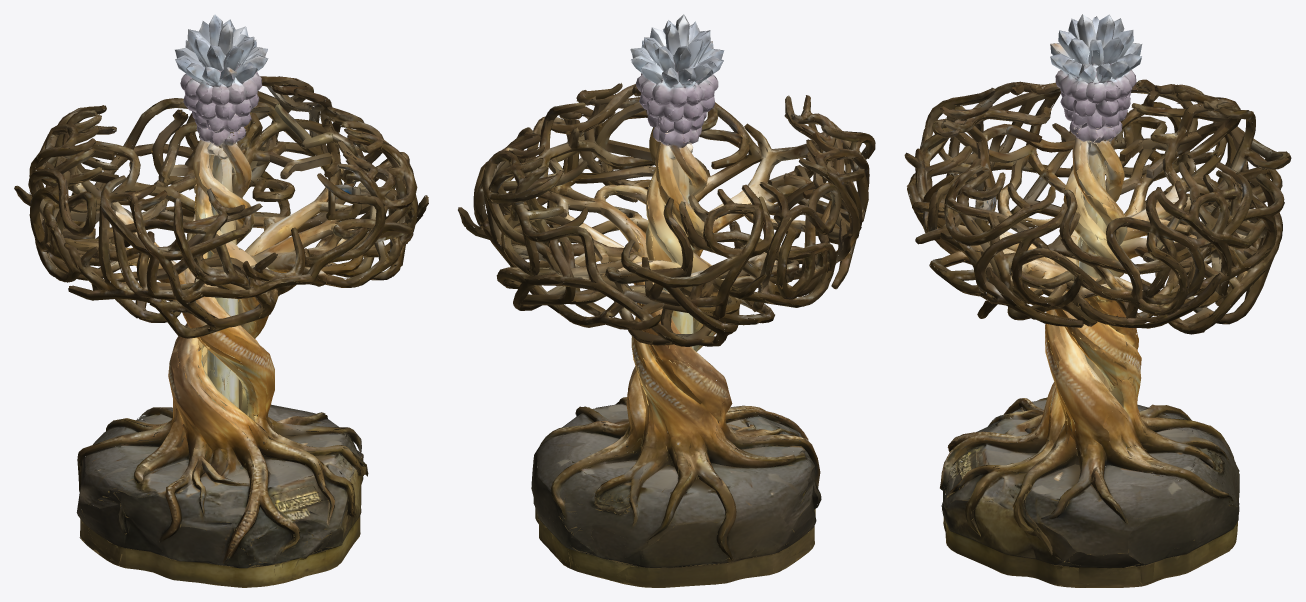
Rendered from tree-revelation-regions.glb.
The picture shows the model from 3 angles, left to right: view 1: azimuth 30°, elevation 25°; view 2: azimuth 150°, elevation 25°; view 3: azimuth 270°, elevation 25°; orthographic projection.
Visible parts, largest first — view 1: Tree_revelation_periphery, Tree_revelation_base, Tree_revelation_trunk, Tree_revelation_arms, Tree_revelation_head, Tree_revelation_core; view 2: Tree_revelation_periphery, Tree_revelation_base, Tree_revelation_trunk, Tree_revelation_arms, Tree_revelation_head, Tree_revelation_core; view 3: Tree_revelation_periphery, Tree_revelation_base, Tree_revelation_trunk, Tree_revelation_arms, Tree_revelation_head, Tree_revelation_core.
Boxes of the visible parts, x1,y1,x2,y2 form: Tree_revelation_periphery: [14, 76, 428, 507]; Tree_revelation_base: [76, 404, 368, 587]; Tree_revelation_trunk: [90, 209, 345, 501]; Tree_revelation_arms: [48, 84, 380, 322]; Tree_revelation_head: [175, 14, 268, 117]; Tree_revelation_core: [155, 112, 307, 277]; Tree_revelation_periphery: [458, 84, 875, 471]; Tree_revelation_base: [531, 398, 821, 587]; Tree_revelation_trunk: [541, 217, 803, 506]; Tree_revelation_arms: [508, 83, 838, 339]; Tree_revelation_head: [630, 14, 724, 119]; Tree_revelation_core: [606, 114, 727, 274]; Tree_revelation_periphery: [904, 80, 1291, 509]; Tree_revelation_base: [940, 401, 1239, 587]; Tree_revelation_trunk: [972, 211, 1213, 507]; Tree_revelation_arms: [934, 79, 1265, 326]; Tree_revelation_head: [1050, 14, 1142, 112]; Tree_revelation_core: [1030, 109, 1164, 285].
Size of the model in its own units: 0.7264 by 1.05 by 0.7174.
Materials: 1 (1 with a texture image).
